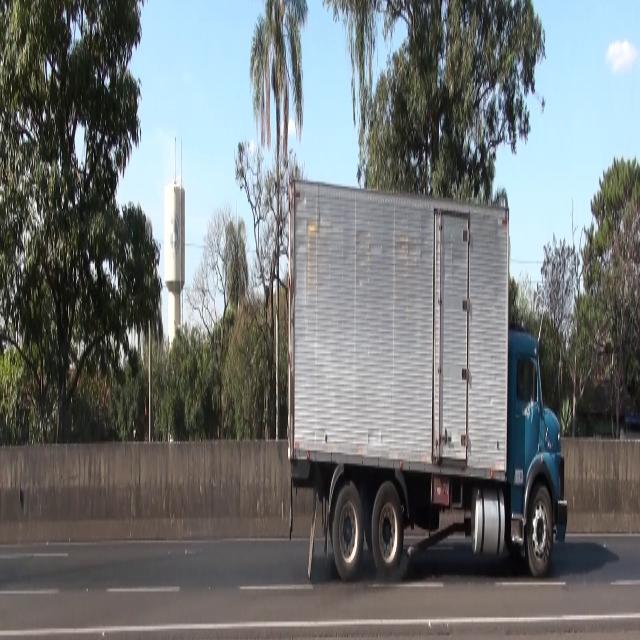-axle: (330, 479, 363, 581), (369, 481, 403, 578), (526, 476, 554, 581)
